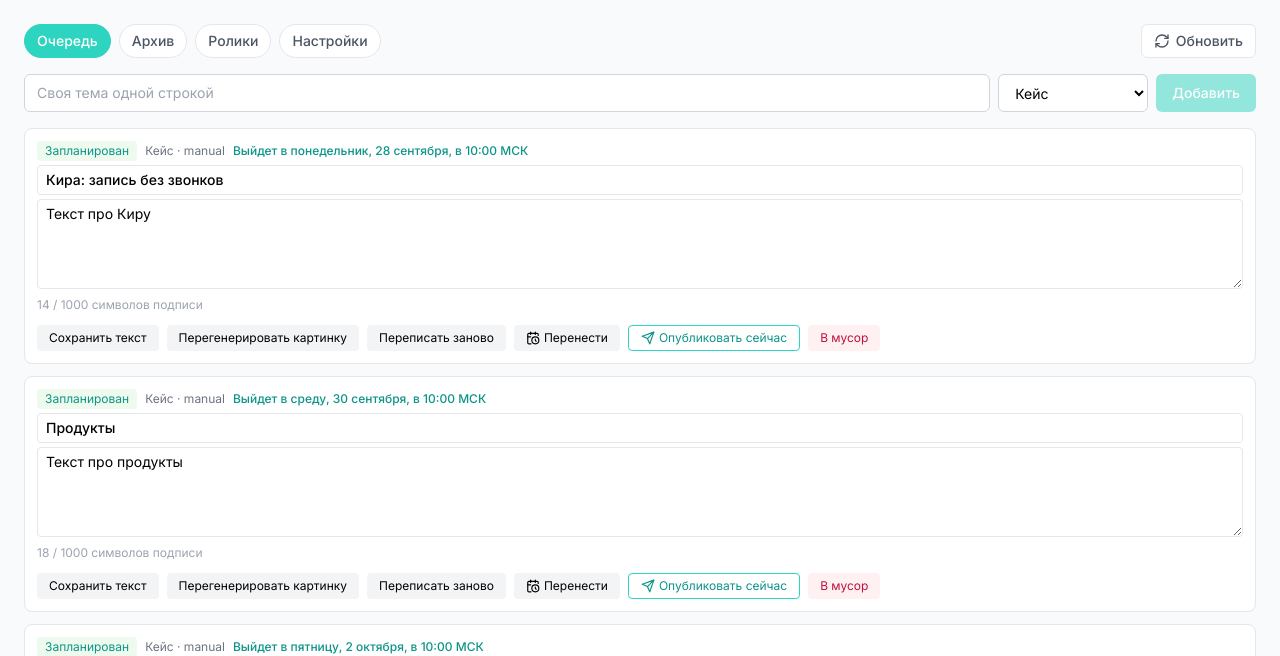
Test: «Опубликовать сейчас» › вышел: ссылка на пост в канале и сдвиги очереди — даты той же фразой, что в Telegram
The width and height of the screenshot is (1280, 656).
What coordinates should you click on to do the following:
click the 1st button "Опубликовать сейчас"
I would click on:
 (714, 338)
Its box is [628,325,800,351].
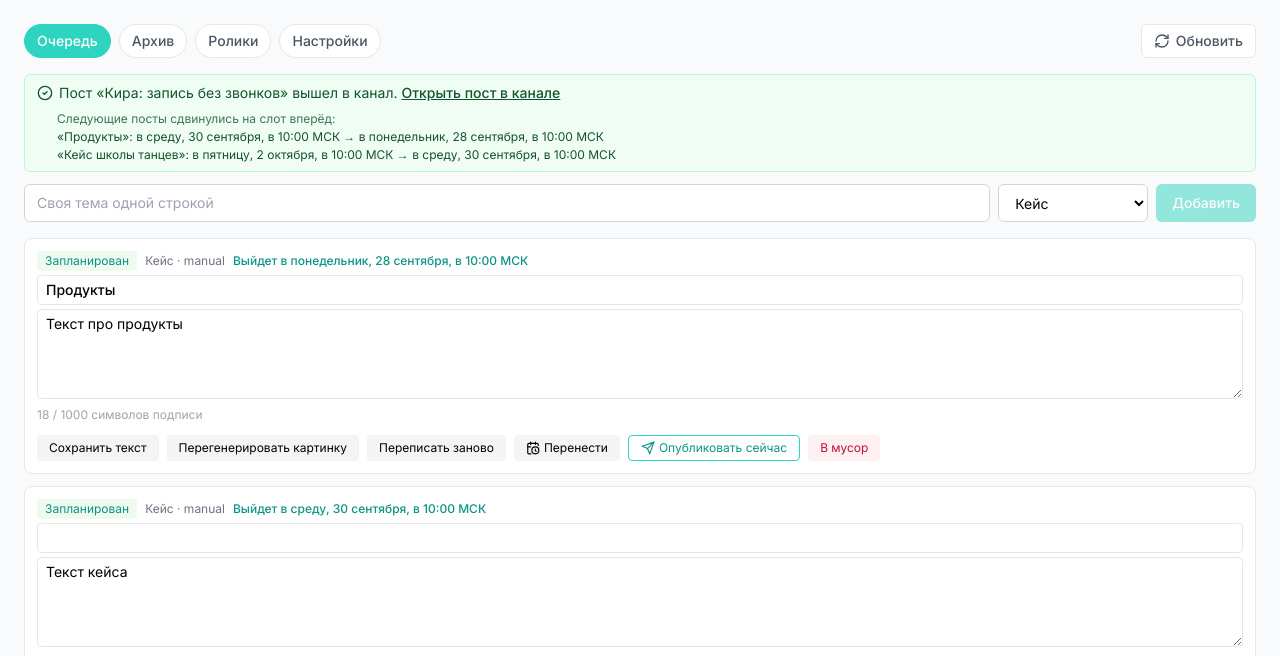
Expected: the text "Выйдет в понедельник, 28 сентября, в 10:00 МСК" is shown, [233,253,528,269]
Expected: the text "Выйдет в среду, 30 сентября, в 10:00 МСК" is shown, [233,501,486,517]
